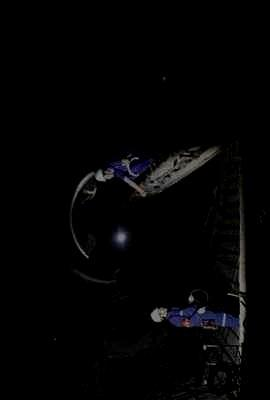helmet: (94, 166, 113, 182), (150, 307, 168, 323)
